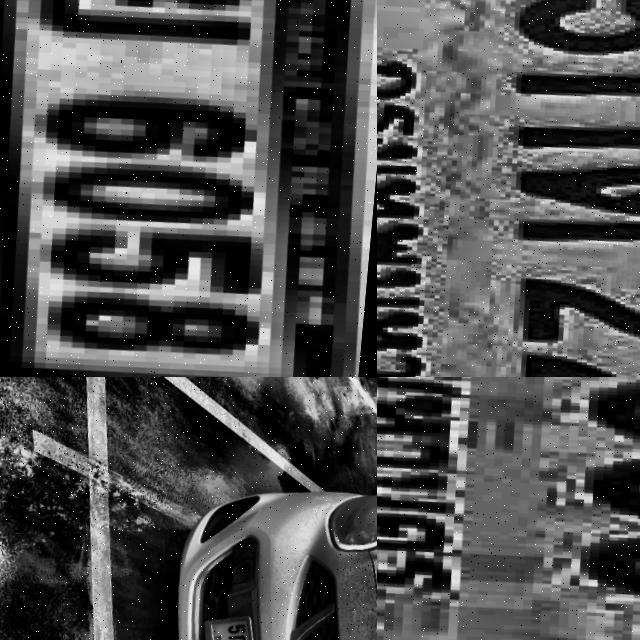license-plate: (0, 0, 377, 377), (377, 0, 640, 377), (377, 377, 640, 640), (199, 604, 274, 640)
